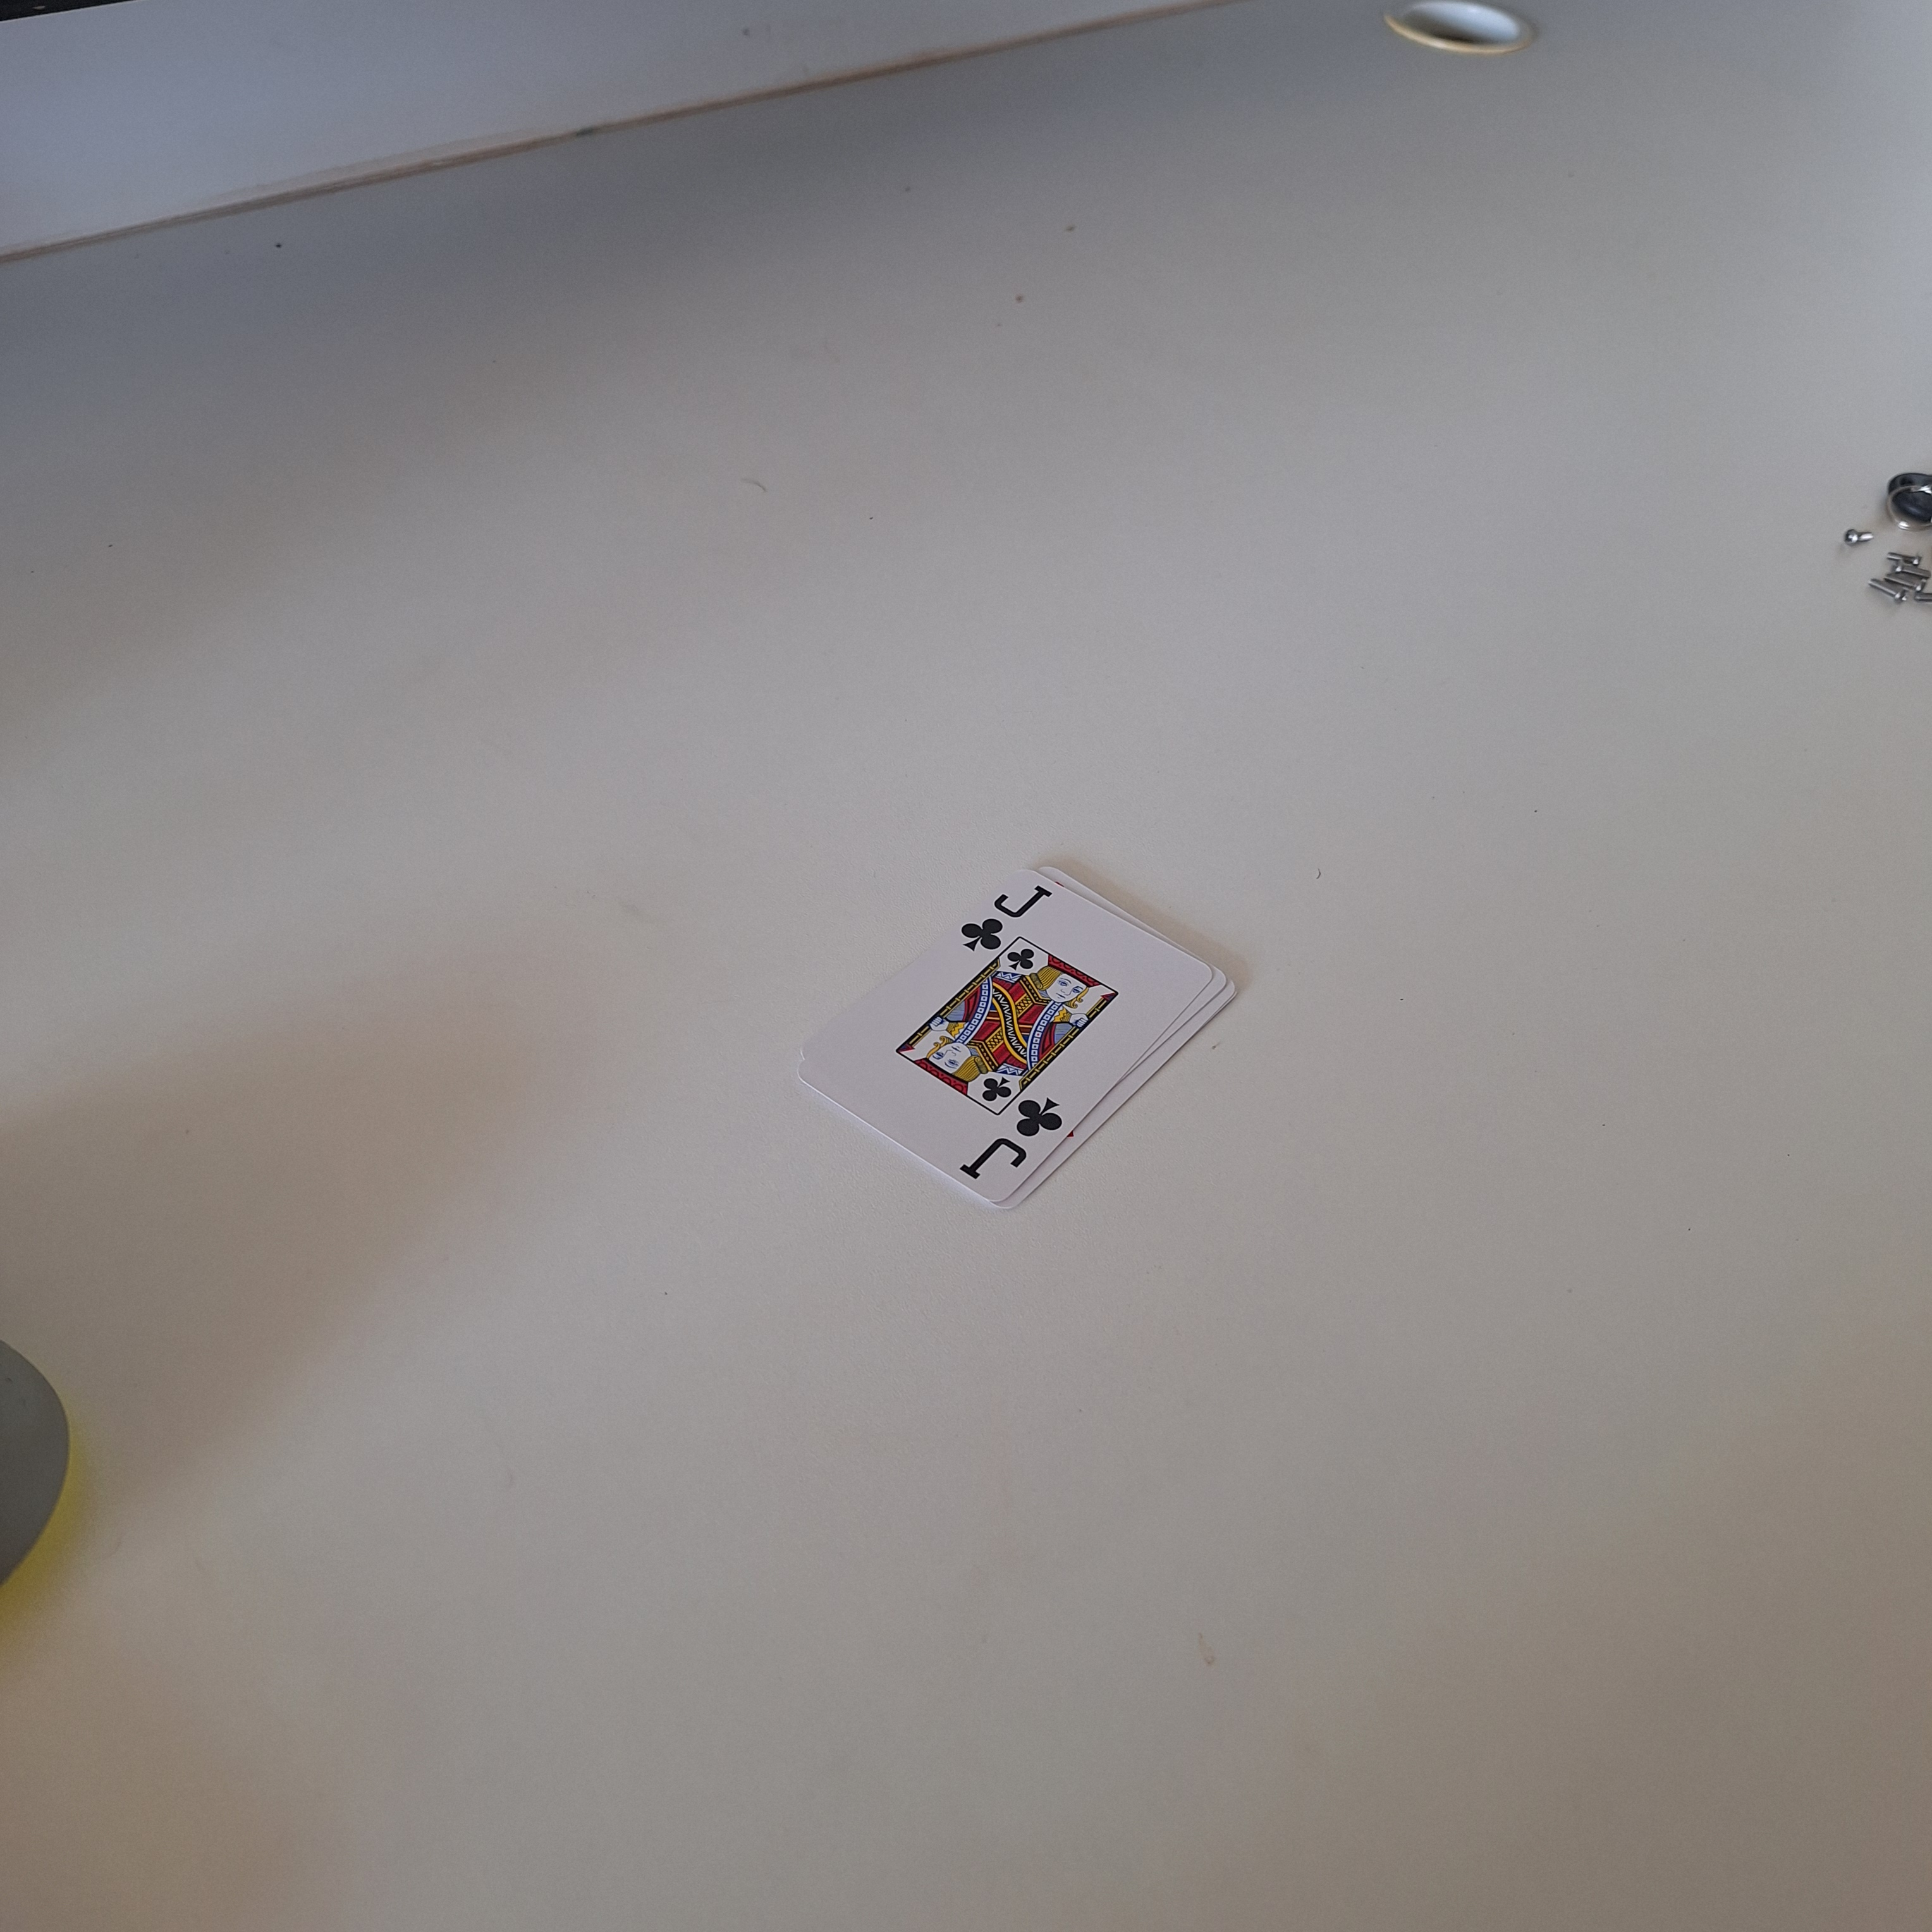JP: (952, 1093, 1069, 1196), (955, 881, 1063, 957)
